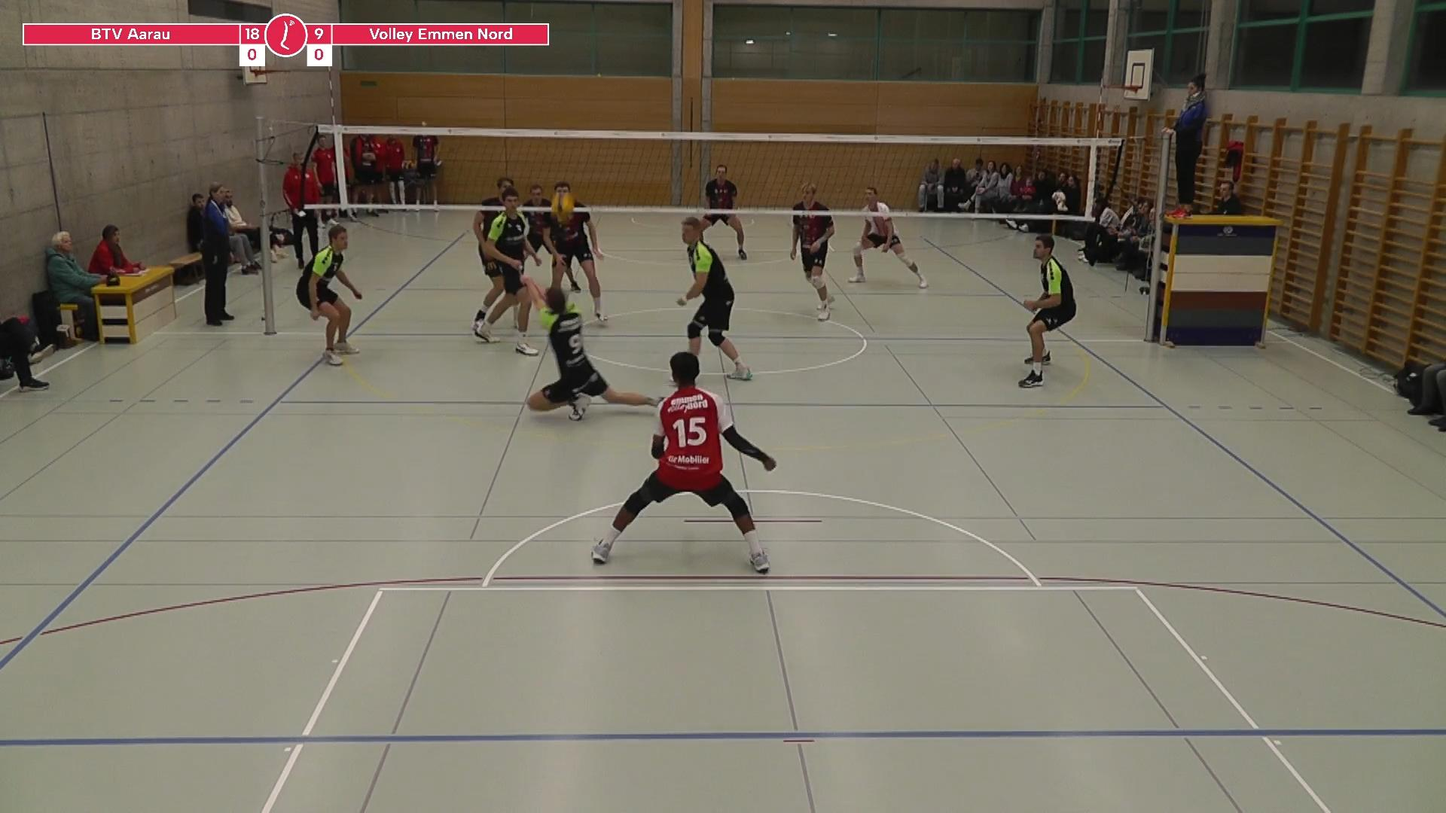difesa: (507, 266, 673, 421)
